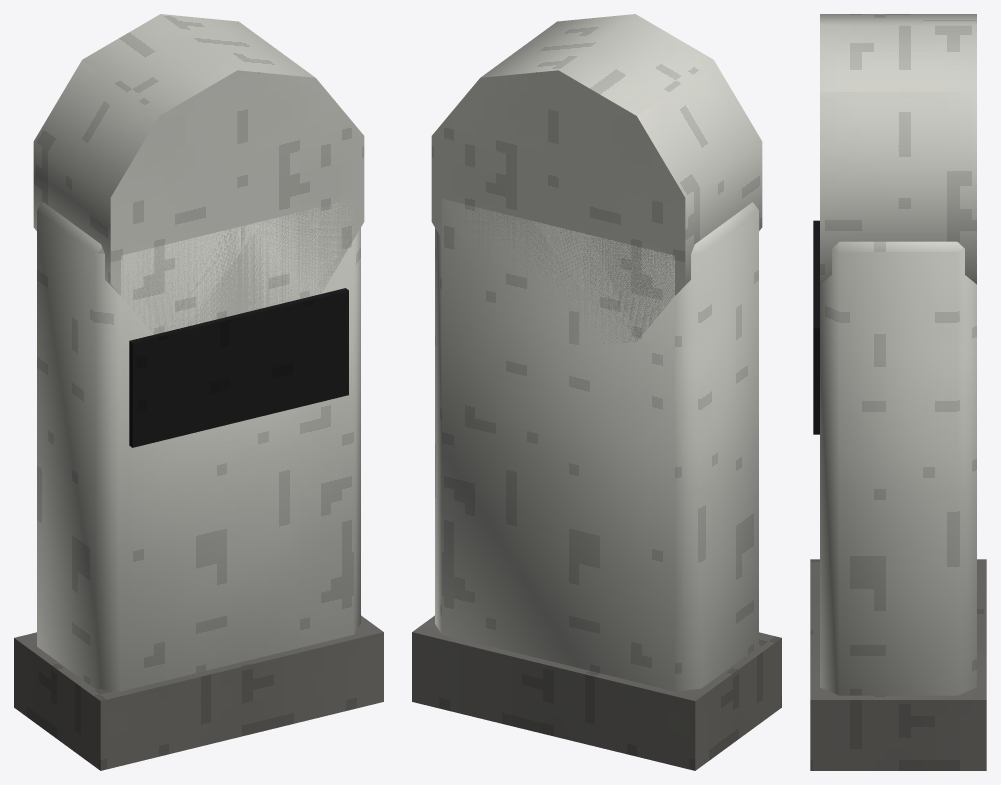
Rendered from baliza_km.glb.
3 views of the same model, side by side, from view 1: azimuth 30°, elevation 25°; view 2: azimuth 150°, elevation 25°; view 3: azimuth 270°, elevation 25° (orthographic).
Parts seen in each view (by area): view 1: Inteiro; view 2: Inteiro; view 3: Inteiro.
Part boxes in pixels (x1,y1,x2,y2): Inteiro: [14, 14, 383, 770]; Inteiro: [412, 14, 781, 770]; Inteiro: [810, 14, 986, 770].
Size of the model in its own units: 0.34 by 0.76 by 0.18.
1 material, 1 textured.
